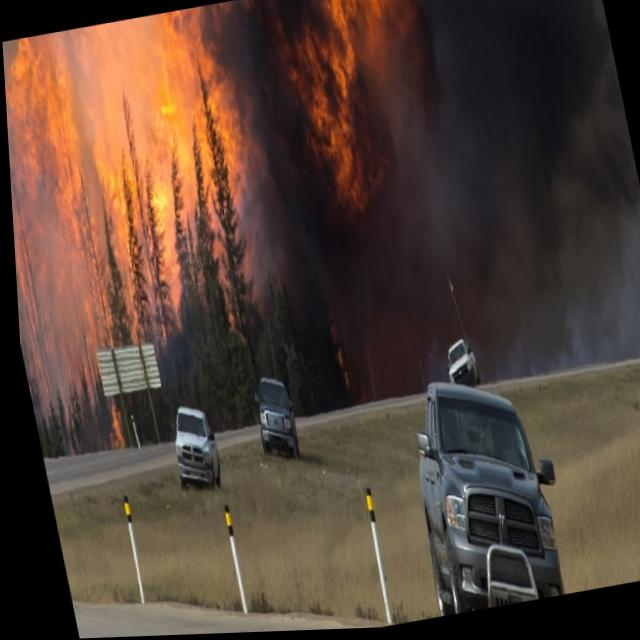Fire: (0, 0, 497, 465)
